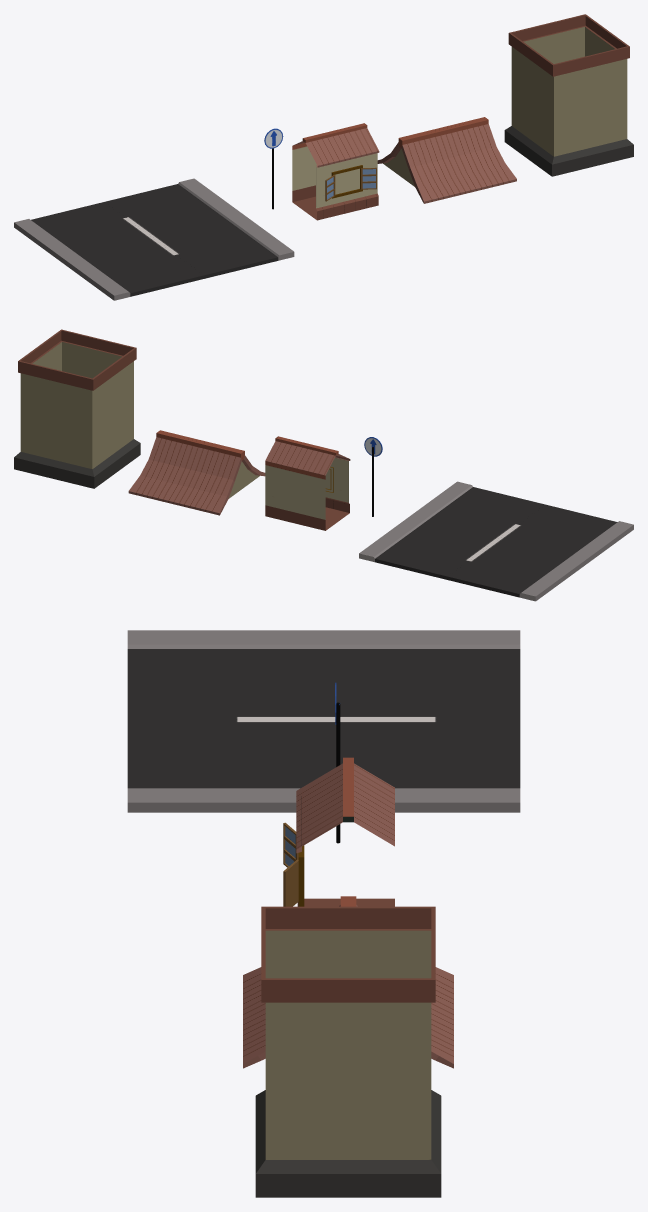
Rendered from Bridges.fbx.
3 views of the same model, one above another, from view 1: azimuth 30°, elevation 25°; view 2: azimuth 150°, elevation 25°; view 3: azimuth 270°, elevation 25° (orthographic). The views are drawn at different scales.
Visible parts, largest first — view 1: Road, BridgeBuidling_1, BridgeBuidling_roof, BridgeStructure, Open_Window, BridgeStructure.001; view 2: Road, BridgeBuidling_1, BridgeBuidling_roof, BridgeStructure, BridgeStructure.001; view 3: Road, BridgeBuidling_1, BridgeStructure, BridgeBuidling_roof, Open_Window.
Boxes of the visible parts, x1=… form: Road: x1=14, y1=178, x2=294, y2=300; BridgeBuidling_1: x1=504, y1=14, x2=633, y2=176; BridgeBuidling_roof: x1=377, y1=117, x2=516, y2=203; BridgeStructure: x1=292, y1=123, x2=379, y2=220; Open_Window: x1=325, y1=165, x2=376, y2=201; BridgeStructure.001: x1=264, y1=128, x2=283, y2=209; Road: x1=359, y1=481, x2=633, y2=601; BridgeBuidling_1: x1=14, y1=329, x2=140, y2=488; BridgeBuidling_roof: x1=128, y1=430, x2=265, y2=515; BridgeStructure: x1=265, y1=436, x2=350, y2=530; BridgeStructure.001: x1=364, y1=437, x2=382, y2=516; Road: x1=127, y1=630, x2=520, y2=812; BridgeBuidling_1: x1=255, y1=906, x2=441, y2=1197; BridgeStructure: x1=296, y1=757, x2=394, y2=906; BridgeBuidling_roof: x1=243, y1=896, x2=453, y2=1068; Open_Window: x1=283, y1=822, x2=304, y2=906.
Size of the model in its own units: 5091 by 966 by 1600.
1 material, 1 textured.
